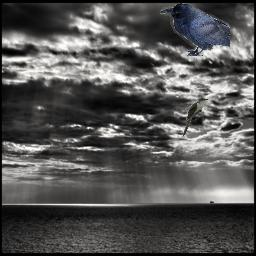Crow: (160, 3, 230, 56)
Cuckoo: (182, 97, 208, 137)
